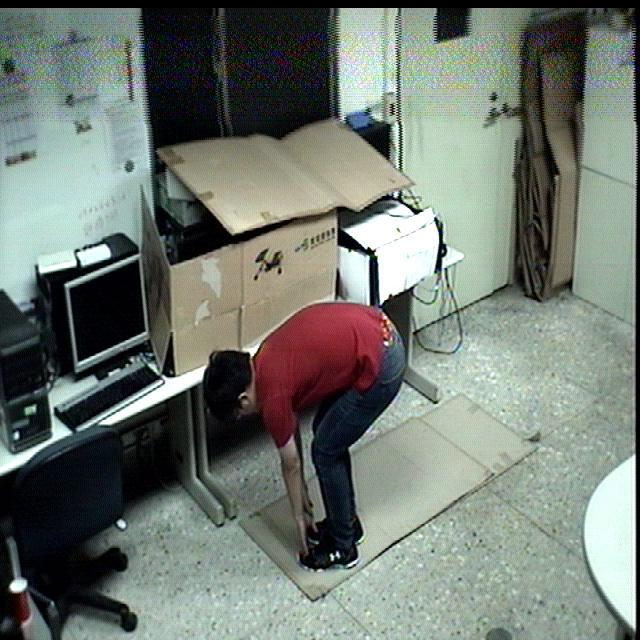bend: (198, 296, 412, 584)
